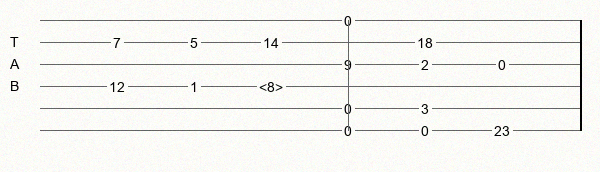0: (344, 13, 356, 27), (344, 123, 356, 137), (344, 101, 356, 115), (421, 123, 433, 137), (498, 57, 510, 71)
1: (190, 79, 202, 93)
12: (109, 79, 129, 93)
14: (263, 35, 283, 49)
18: (417, 35, 437, 49)
2: (421, 57, 433, 71)
23: (494, 123, 514, 137)
3: (421, 101, 433, 115)
5: (190, 35, 202, 49)
7: (113, 35, 125, 49)
9: (344, 57, 356, 71)
harmonic: (259, 79, 287, 93)
